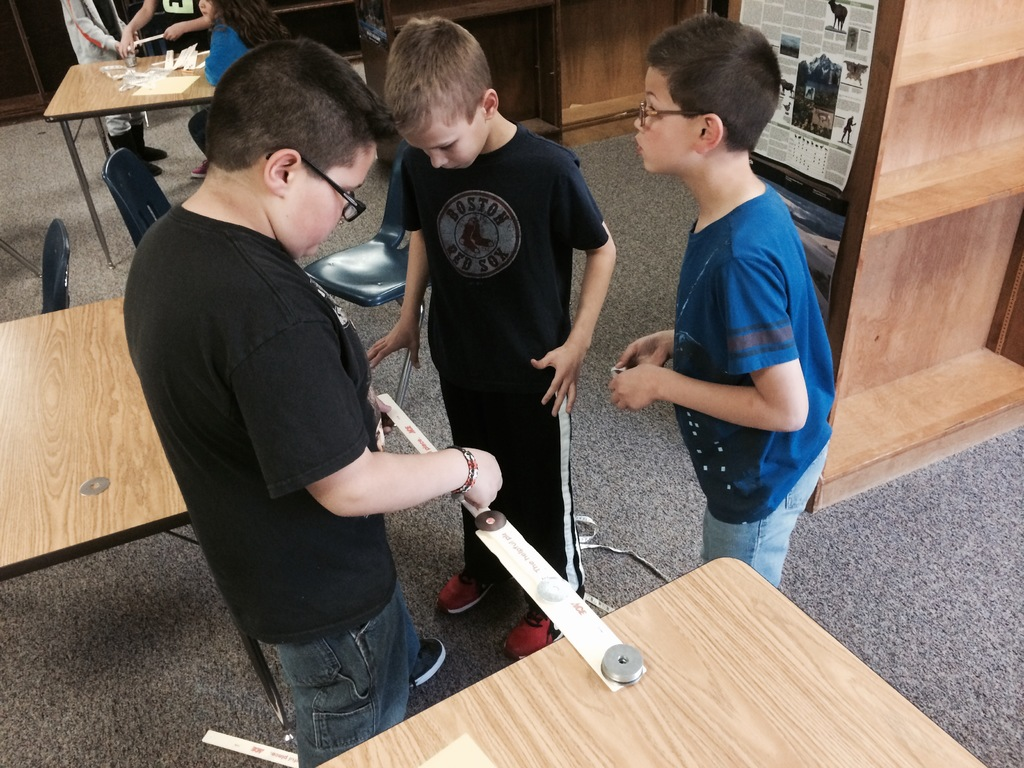Human_hand: (528, 319, 593, 419), (452, 441, 505, 516), (362, 321, 426, 373), (608, 362, 659, 415), (612, 328, 670, 368), (372, 396, 396, 437), (161, 20, 186, 43), (118, 28, 137, 58)
